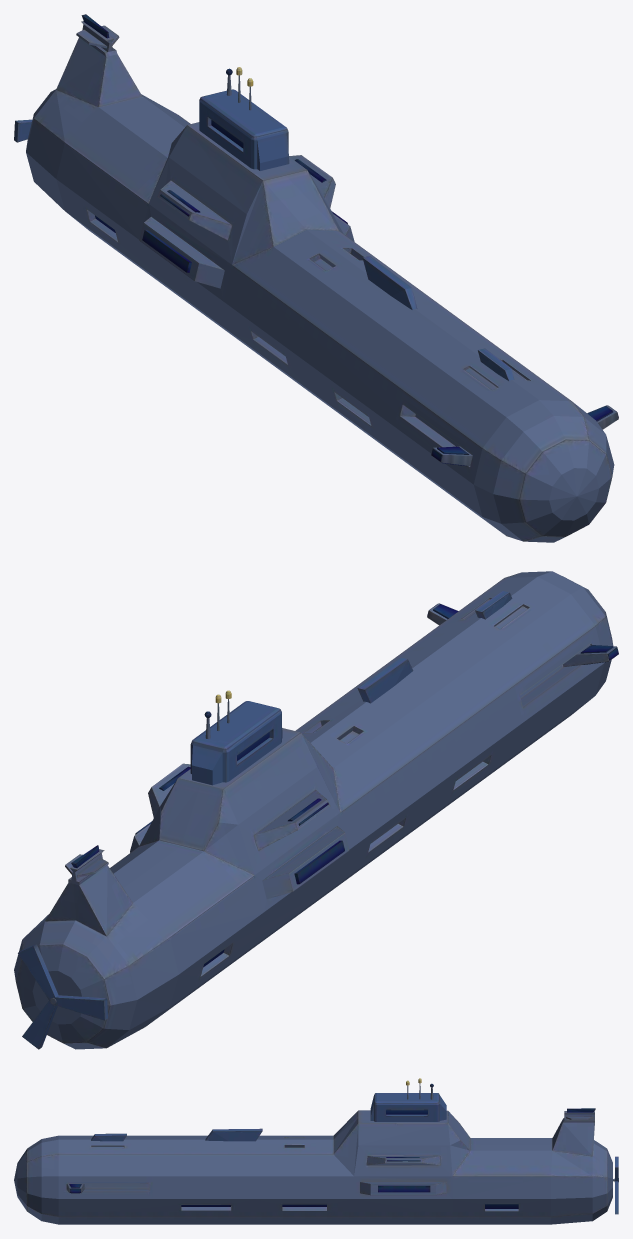
File: submarine.glb
3 views of the same model, one above another, from view 1: azimuth 30°, elevation 25°; view 2: azimuth 150°, elevation 25°; view 3: azimuth 270°, elevation 25° (orthographic). The views are drawn at different scales.
Visible parts, largest first — view 1: Node; view 2: Node; view 3: Node.
Boxes of the visible parts, x1,y1,x2,y2 form: Node: (14,14,618,542); Node: (14,571,618,1049); Node: (14,1078,618,1224).
Bounding box in the file's own units: 136 × 178 × 677.
1 material, 1 textured.
